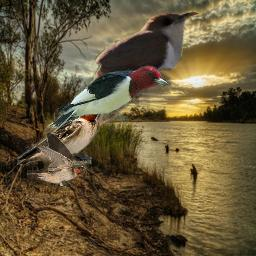Cuckoo: (71, 9, 199, 162)
Swallow: (16, 101, 102, 165), (26, 132, 87, 188)
Woodpecker: (43, 60, 174, 136)
